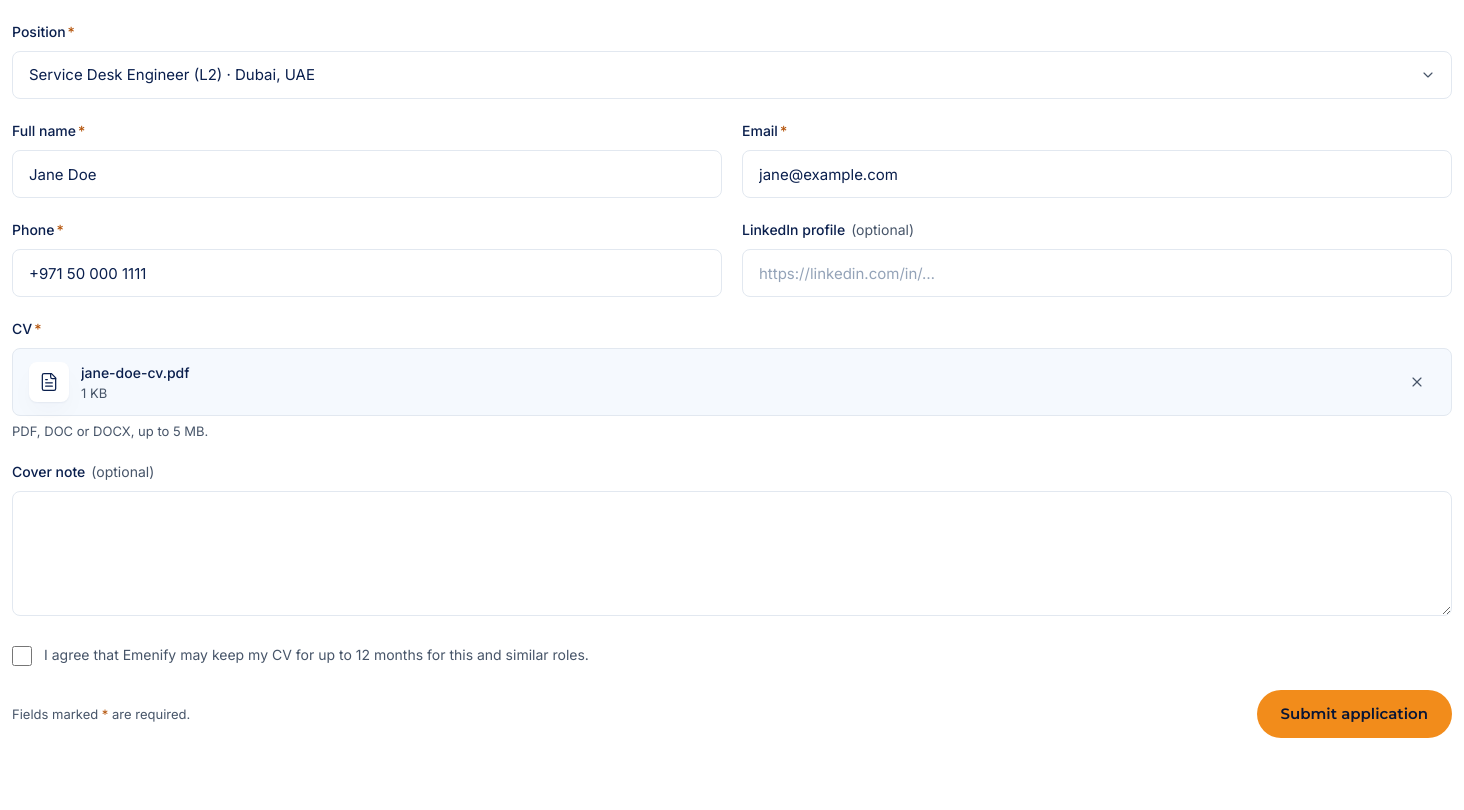
it: CareersForm › prefills the position and submits with the CV attached
Earlier steps of the test are not shown.
Click the checkbox labelled "I agree" at coordinates (22, 656), box [12,646,32,666]
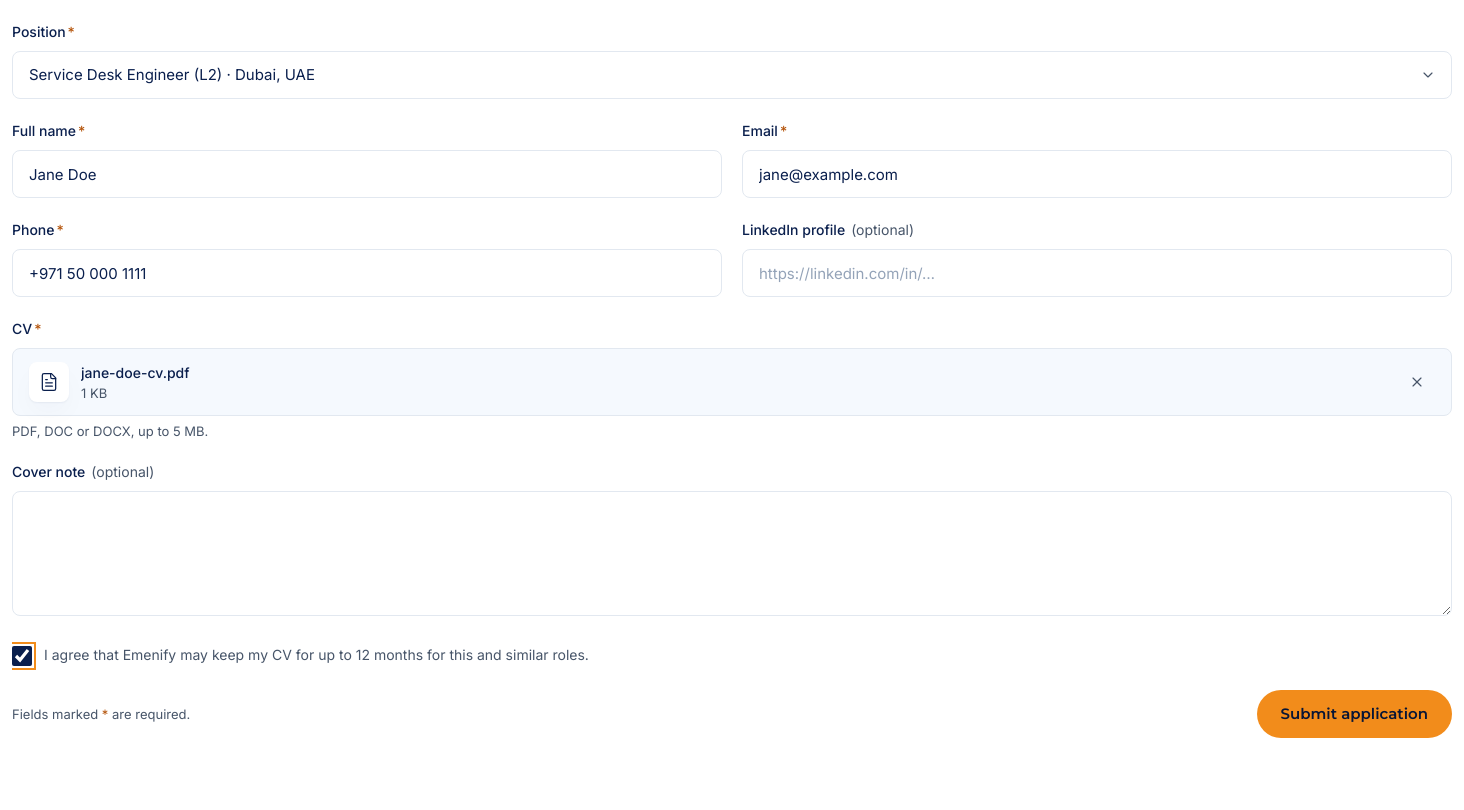
Expected: the text "jane-doe-cv.pdf" is shown, [81,364,190,381]
Click the button "Submit application" at coordinates (1354, 714), box [1257,690,1452,738]
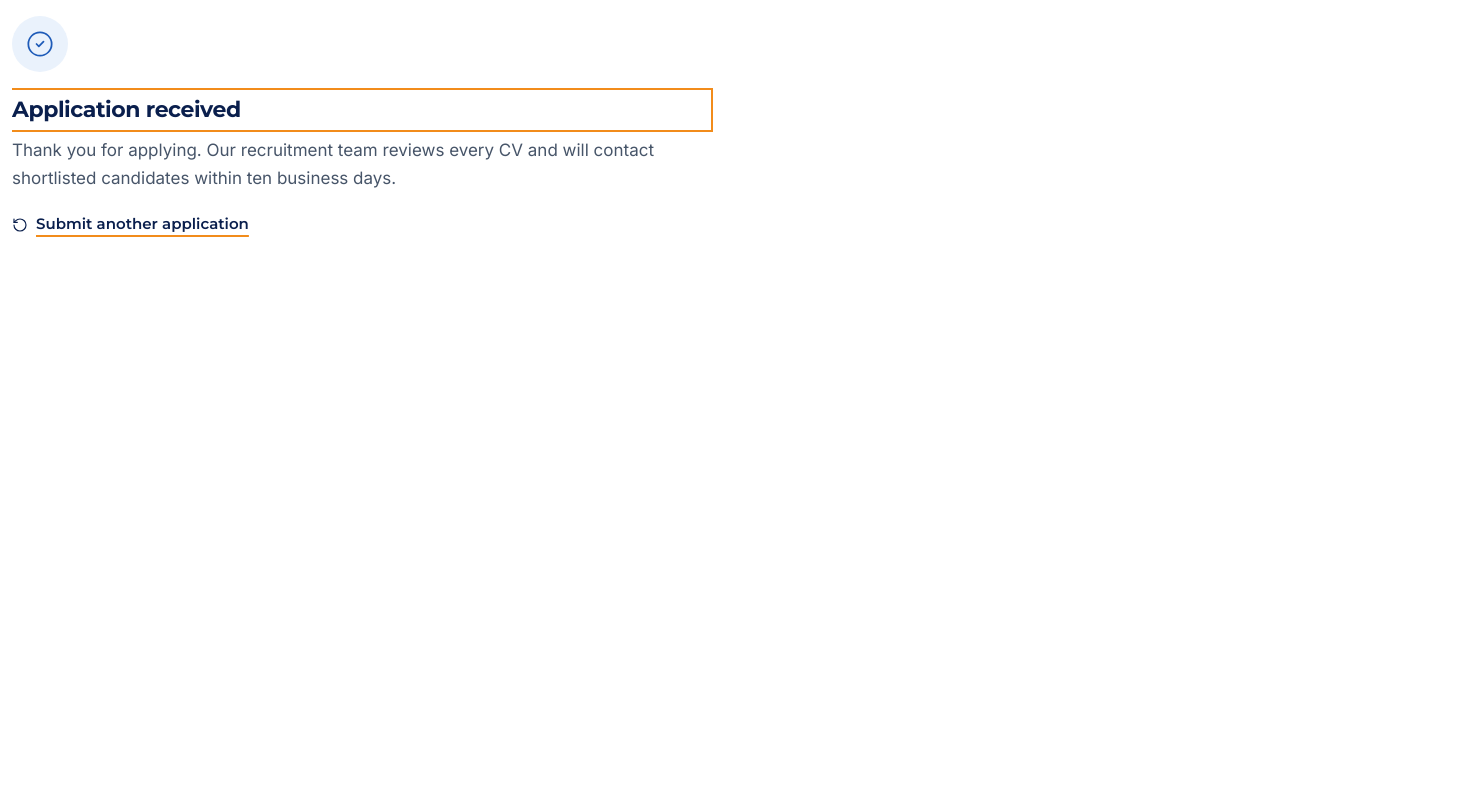
Expected: the heading "Application received" is shown, [12,92,709,128]
